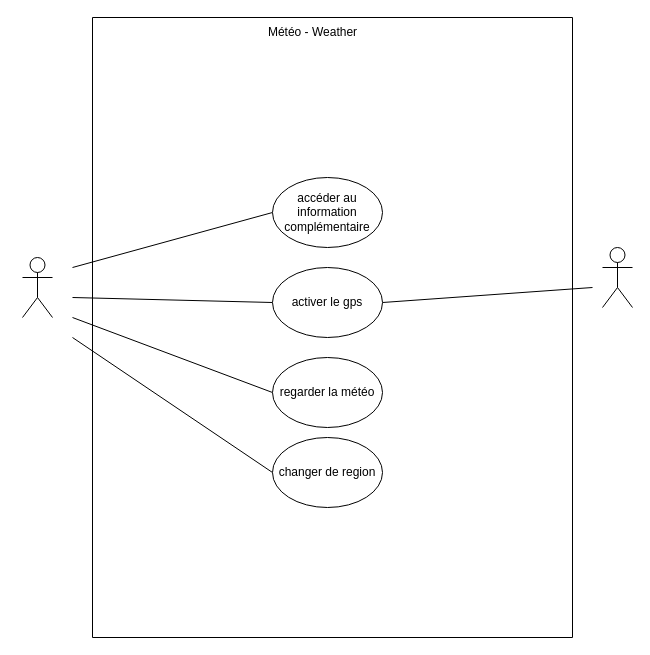
Some shapes in this 650 by 655 pixel diagram are drawn without their labels. Each missing label, with the centre of its shape:
"GPS" belongs at point 617,277.
"Visiteur" belongs at point 37,287.
